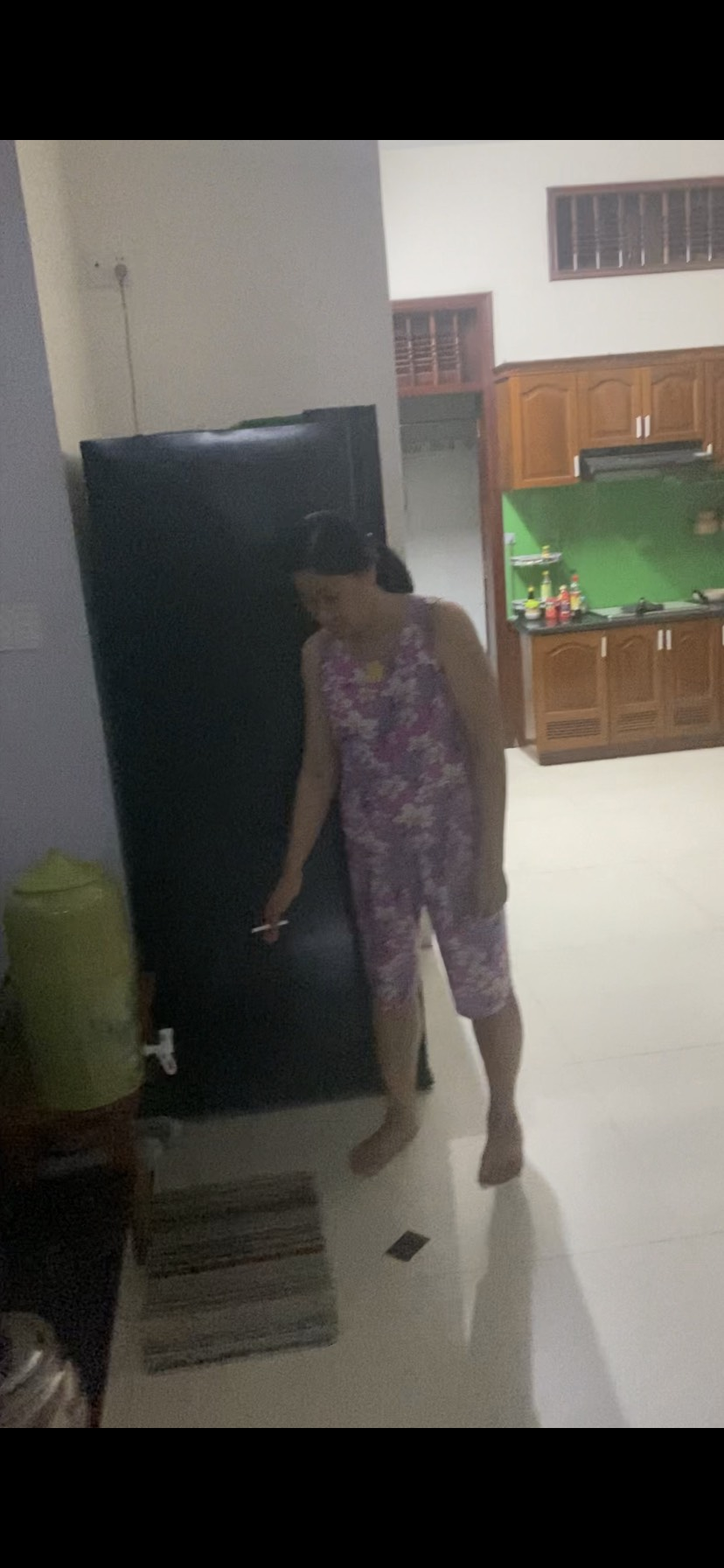cigarette: (245, 921, 274, 938)
person: (251, 487, 531, 1170)
